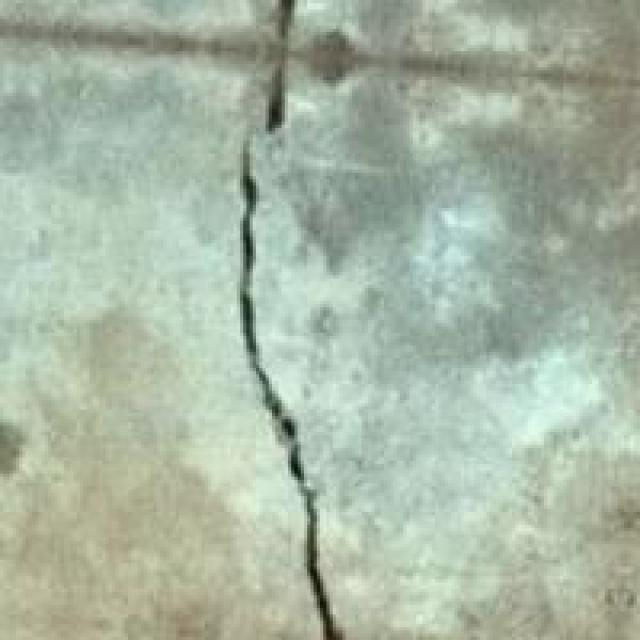Crack: (144, 0, 400, 637)
